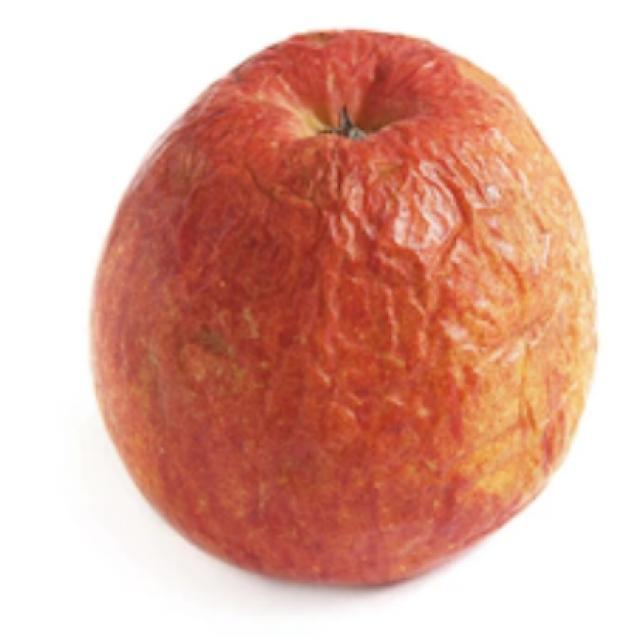Rotten: (80, 21, 603, 596)
